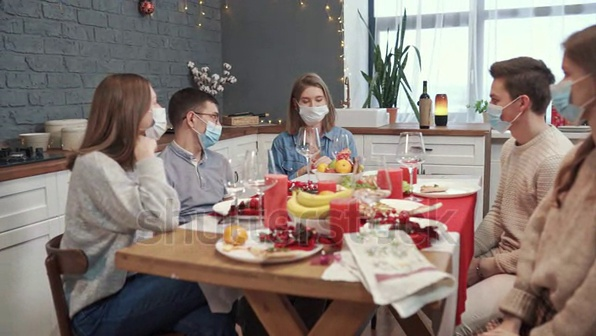Mask: (91, 70, 169, 151), (488, 55, 556, 145), (546, 29, 596, 129), (169, 91, 233, 154), (289, 72, 335, 130)
